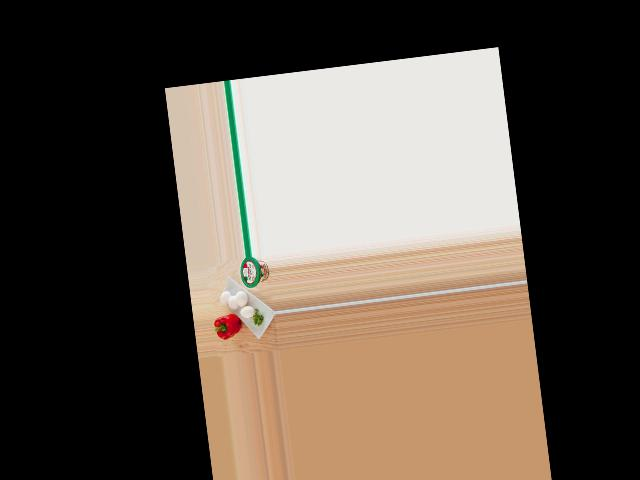bell_pepper: (213, 308, 242, 342)
